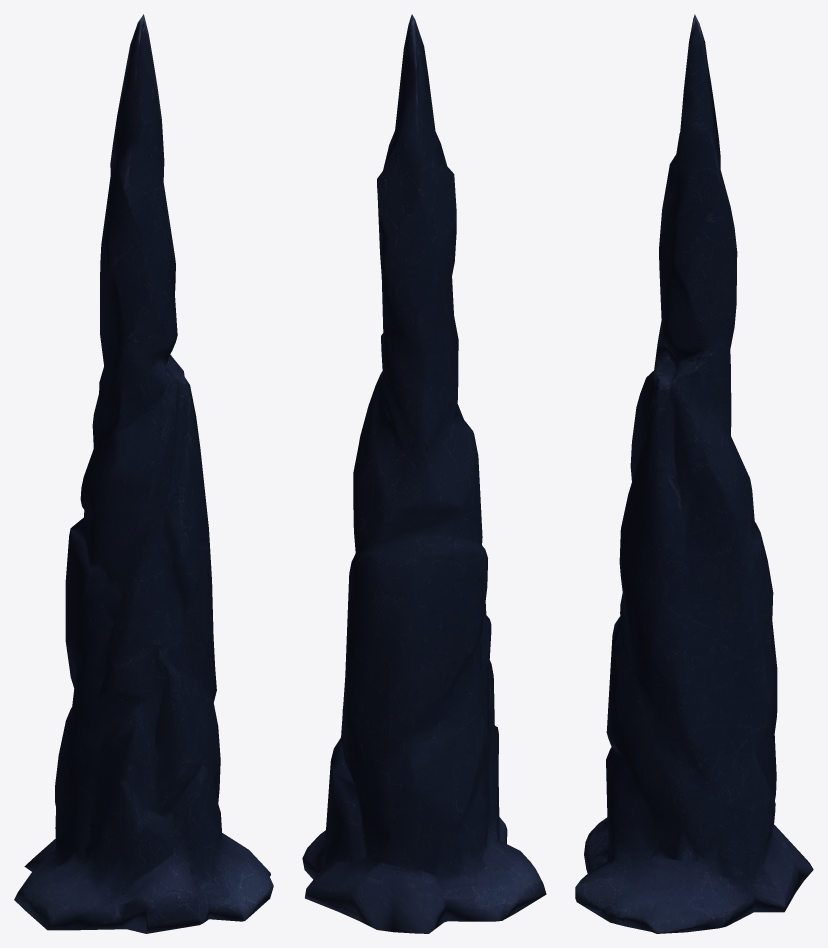
Rendered from obsidian_spire.glb.
The picture shows the model from 3 angles, left to right: view 1: azimuth 30°, elevation 25°; view 2: azimuth 150°, elevation 25°; view 3: azimuth 270°, elevation 25°; orthographic projection.
Bounding box in the file's own units: 0.5102 × 1.9 × 0.4727.
1 material, 1 textured.
